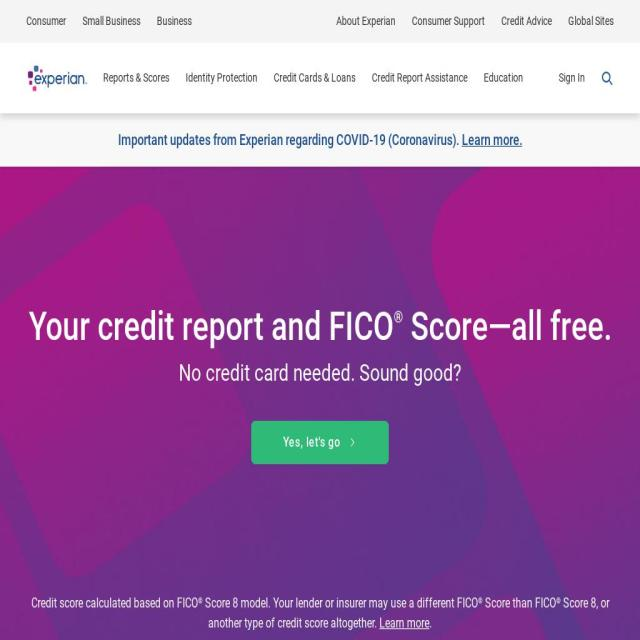button: (364, 42, 476, 114), (266, 42, 364, 114), (250, 421, 390, 464), (95, 42, 177, 114), (476, 42, 531, 114), (551, 42, 593, 114), (412, 12, 501, 30), (336, 12, 412, 30), (82, 12, 157, 30), (501, 12, 568, 30), (27, 12, 82, 30), (568, 12, 614, 30), (157, 12, 192, 30)
heading: (28, 302, 394, 350), (26, 359, 614, 388), (402, 302, 612, 350), (117, 131, 462, 148), (462, 131, 522, 148), (393, 306, 403, 326)
image: (26, 42, 89, 114)
link: (380, 615, 430, 631)
text: (208, 595, 609, 631), (202, 595, 478, 611), (31, 595, 198, 611), (372, 69, 467, 87), (274, 69, 356, 87), (103, 69, 169, 87), (482, 595, 556, 611), (484, 69, 523, 87), (217, 71, 257, 84), (559, 69, 585, 87), (186, 71, 217, 84), (429, 615, 432, 631), (198, 596, 202, 605), (478, 596, 482, 605), (556, 596, 560, 605)
